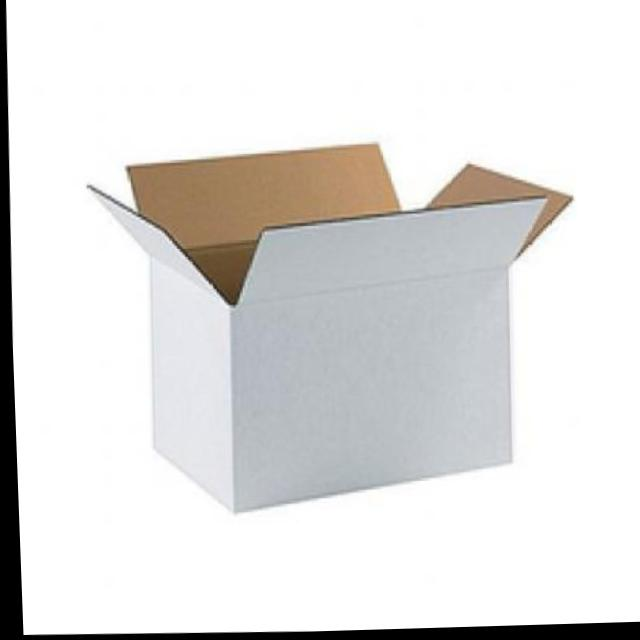box: (71, 122, 596, 535)
